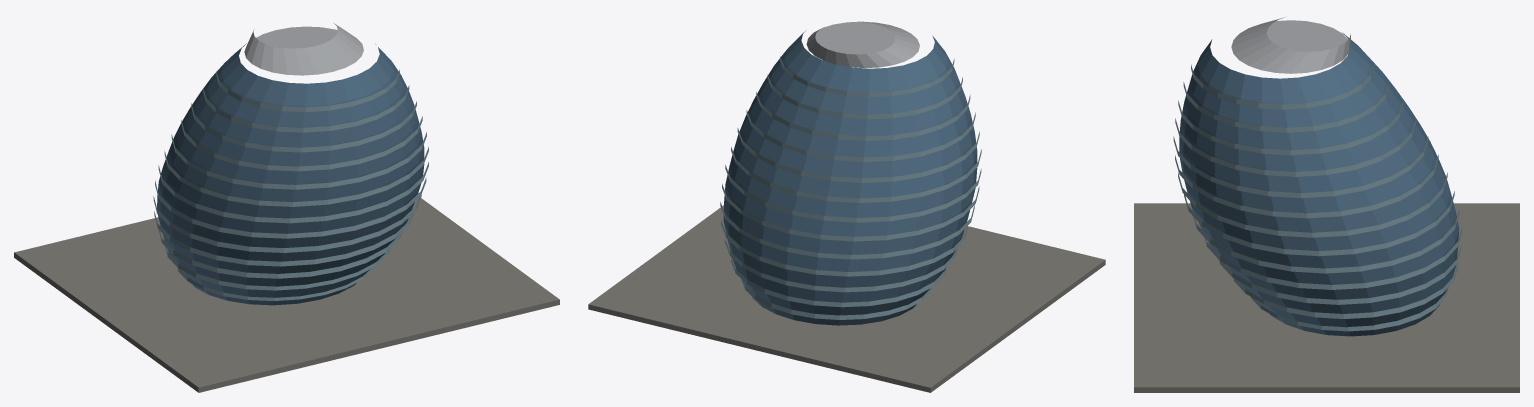
Rendered from city_hall.glb.
3 views of the same model, side by side, from view 1: azimuth 30°, elevation 25°; view 2: azimuth 150°, elevation 25°; view 3: azimuth 270°, elevation 25° (orthographic). The views are drawn at different scales.
Parts seen in each view (by area): view 1: city_hall; view 2: city_hall; view 3: city_hall.
Boxes of the visible parts, x1,y1,x2,y2 form: city_hall: [14, 23, 559, 392]; city_hall: [588, 21, 1105, 392]; city_hall: [1134, 17, 1519, 392].
Bounding box in the file's own units: 70 × 47.5 × 62.
